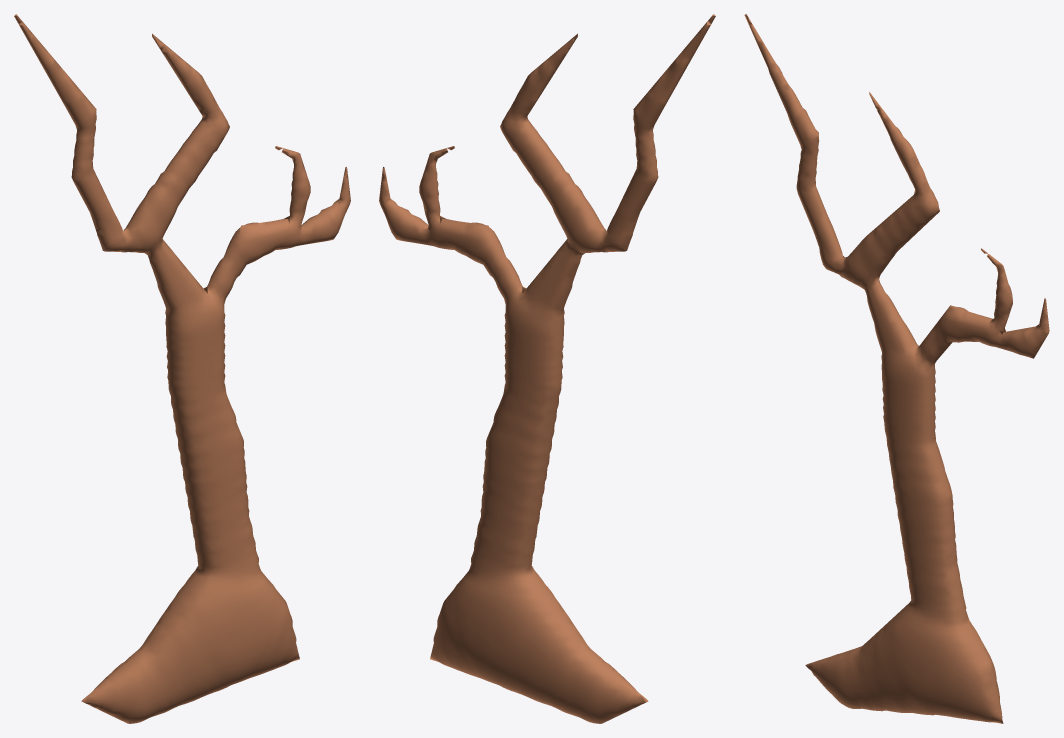
File: DeadTree1.fbx
The picture shows the model from 3 angles, left to right: view 1: azimuth 30°, elevation 25°; view 2: azimuth 150°, elevation 25°; view 3: azimuth 330°, elevation 25°; orthographic projection. The views are drawn at different scales.
Visible parts, largest first — view 1: root; view 2: root; view 3: root.
Part boxes in pixels (<box>): root: <box>14,14,350,723</box>; root: <box>379,14,715,723</box>; root: <box>744,14,1049,723</box>.
Bounding box in the file's own units: 0.5377 × 1.12 × 0.0836.
